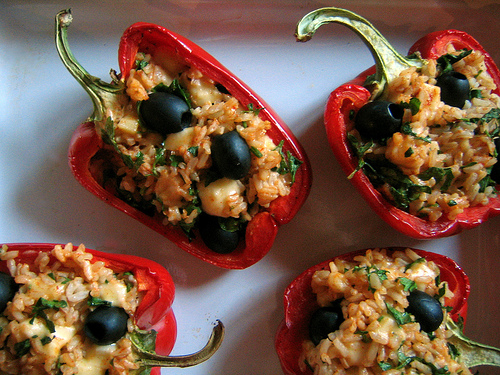capsicum: (41, 6, 310, 272), (290, 6, 499, 240), (0, 242, 225, 374), (275, 248, 499, 374)
